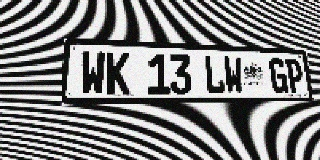1: (147, 53, 170, 95)
3: (169, 54, 192, 94)
G: (269, 58, 288, 93)
K: (106, 52, 130, 95)
L: (204, 55, 225, 94)
P: (285, 59, 305, 93)
W: (80, 51, 105, 95), (223, 56, 244, 94)
